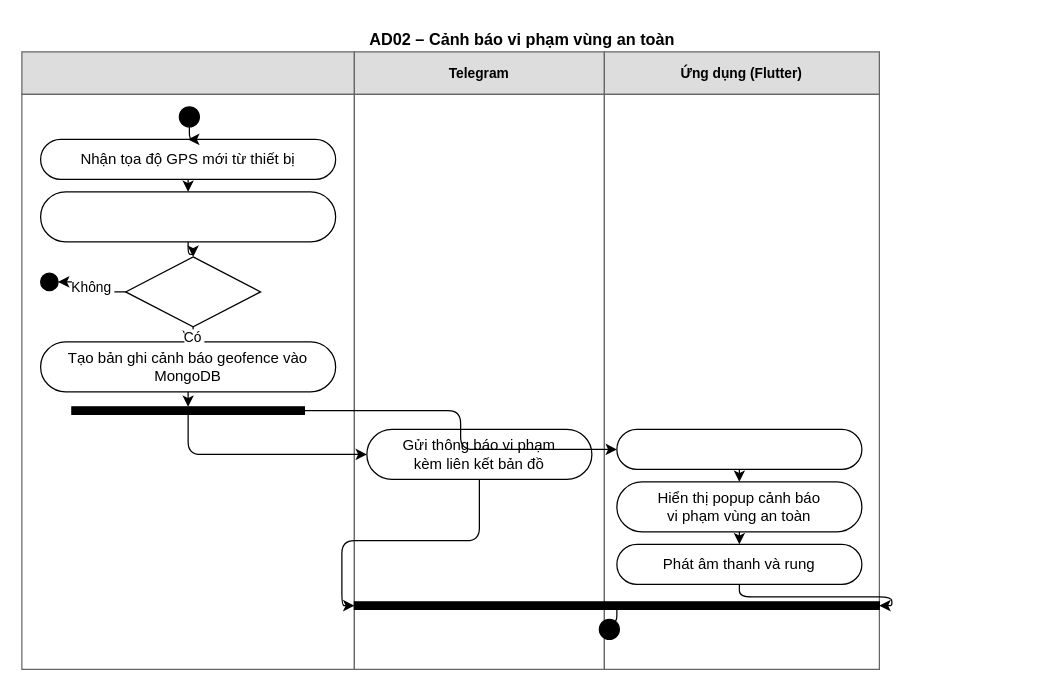
This 1044x691 diagram has some shape labels left out. The centre of each missing label's shape, as x and y in pixels:
"Backend (FastAPI)" belongs at (187,72).
"Kiểm tra với danh sách vùng an toàn (Haversine)" belongs at (187,216).
"Nhận sự kiện WebSocket" belongs at (739,448).
"Thiết bị nằm ngoài vùng an toàn?" belongs at (192,291).
